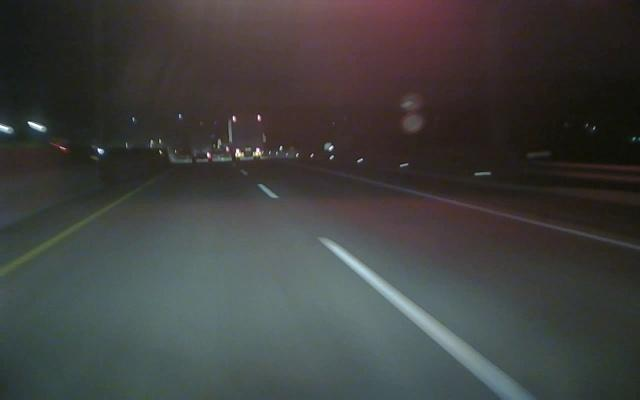lane: (256, 184, 536, 399), (345, 173, 640, 252), (1, 217, 91, 276)
